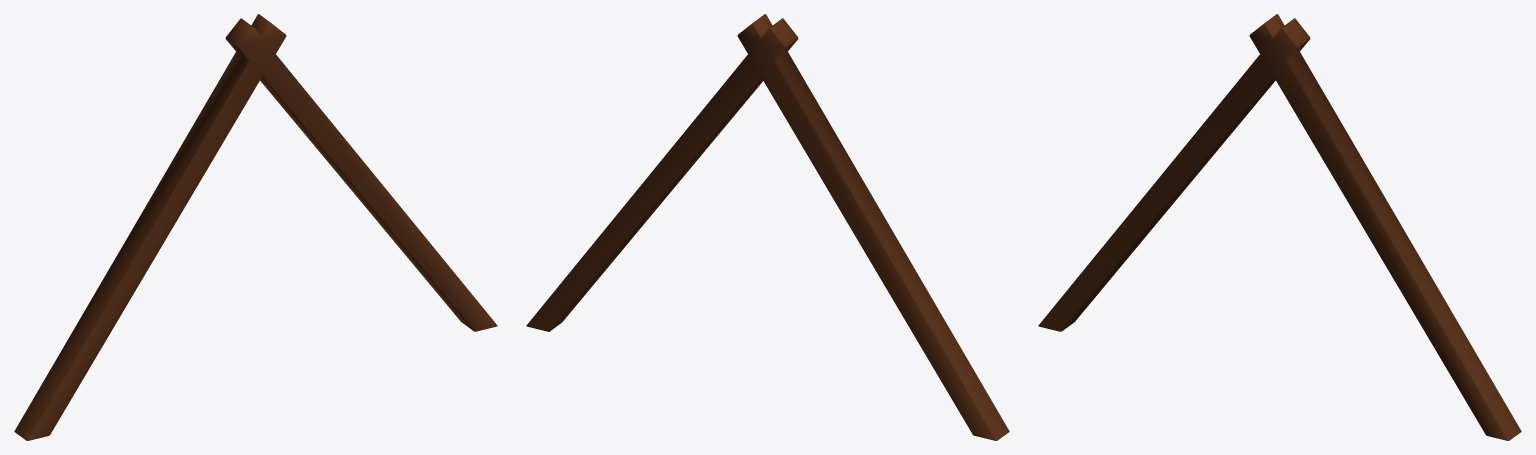
The model's file is SP_House01_RoofSupportBeam03.fbx.
3 renders of one model, left to right at view 1: azimuth 30°, elevation 25°; view 2: azimuth 150°, elevation 25°; view 3: azimuth 330°, elevation 25°, orthographic.
Visible parts, largest first — view 1: SP_House01_RoofSupportBeam03; view 2: SP_House01_RoofSupportBeam03; view 3: SP_House01_RoofSupportBeam03.
Boxes of the visible parts, left/top/right/bottom form: SP_House01_RoofSupportBeam03: left=14, top=14, right=497, bottom=440; SP_House01_RoofSupportBeam03: left=526, top=14, right=1009, bottom=440; SP_House01_RoofSupportBeam03: left=1038, top=14, right=1521, bottom=440.
Size of the model in its own units: 3.22 by 2.34 by 0.1604.
